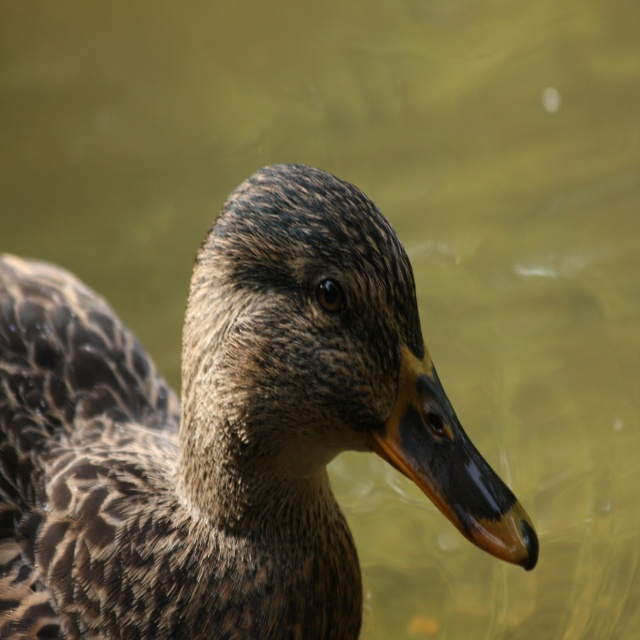Duck: (0, 185, 562, 637)
